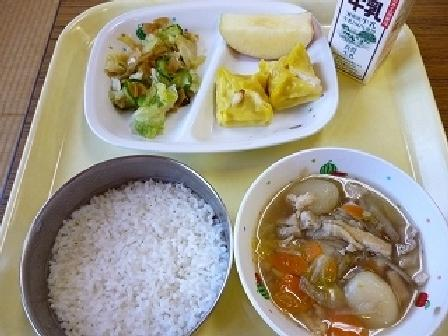Apple: (212, 7, 321, 59)
Milk: (319, 0, 417, 80)
Rice: (26, 160, 229, 333)
Salad: (102, 15, 203, 118)
Soups: (253, 158, 447, 334)
manty: (207, 55, 336, 125)
